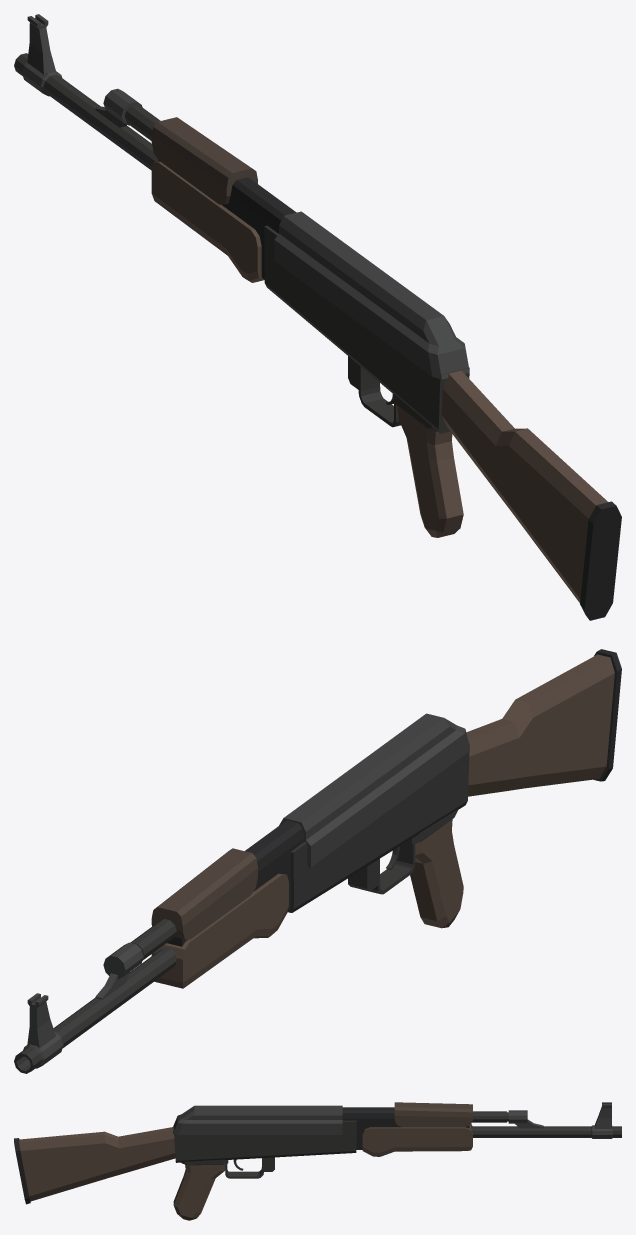
The model's file is rifle.glb.
3 renders of one model, top to bottom at view 1: azimuth 30°, elevation 25°; view 2: azimuth 150°, elevation 25°; view 3: azimuth 270°, elevation 25°, orthographic. The views are drawn at different scales.
Visible parts, largest first — view 1: rifle; view 2: rifle; view 3: rifle.
Part boxes in pixels (<box>): rifle: <box>14,14,621,620</box>; rifle: <box>14,649,621,1073</box>; rifle: <box>14,1102,621,1220</box>.
Bounding box in the file's own units: 0.0289 × 0.1671 × 0.8.
